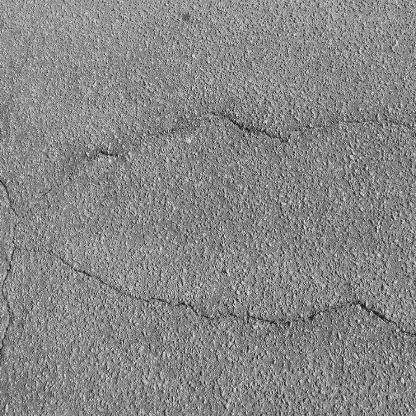Cracks: (0, 246, 416, 340), (208, 109, 416, 146), (0, 166, 25, 244), (0, 341, 10, 416)
